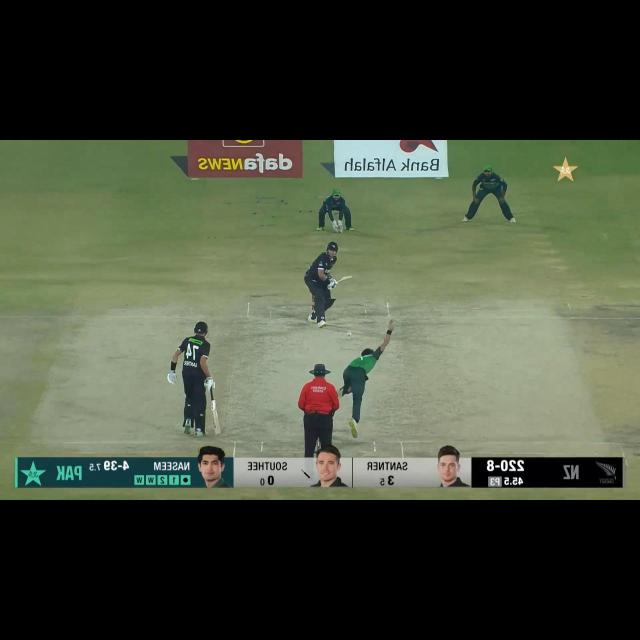bat: (211, 399, 224, 435), (337, 275, 354, 282)
toe: (213, 428, 223, 435), (349, 275, 354, 279)
